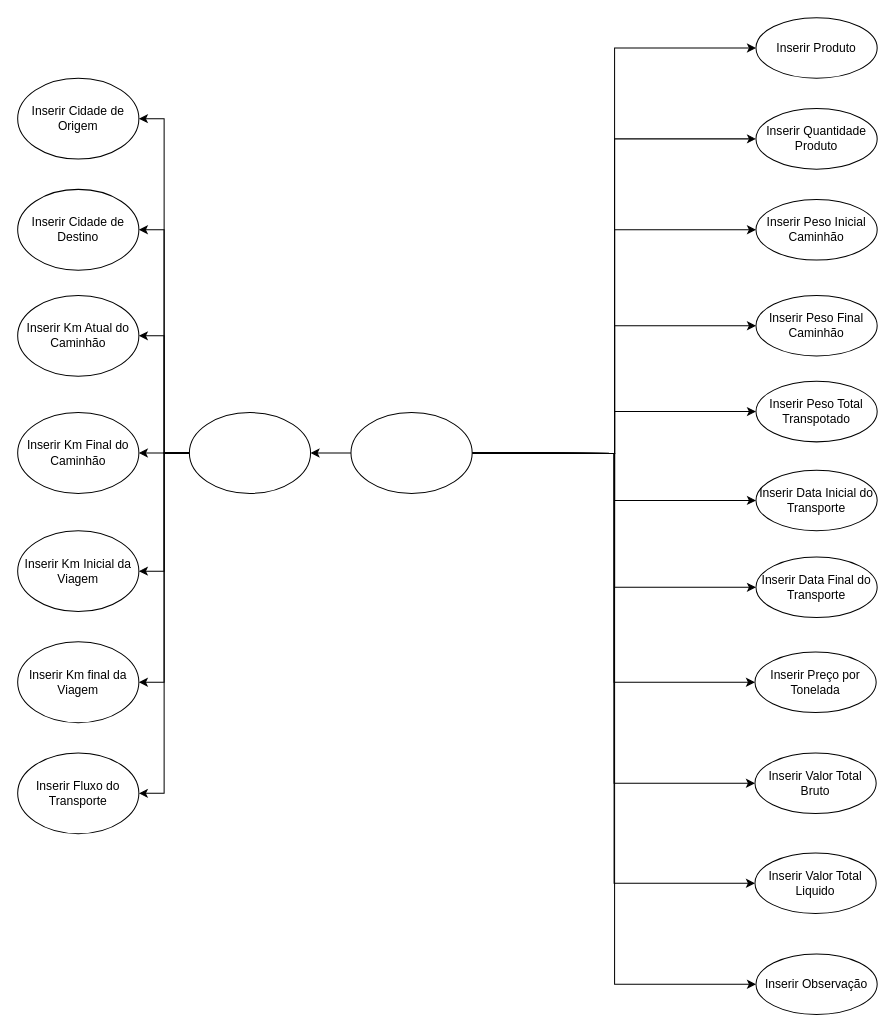
The diagram is 895 pixels wide and 1032 high, and some of its shapes have lost their labels. The box of each missing label's shape, as (x1, y1, x2, y2) in pixels:
Cadastrar Frete: (350, 412, 472, 493)
Inserir Dados de Viagem: (188, 412, 311, 493)
